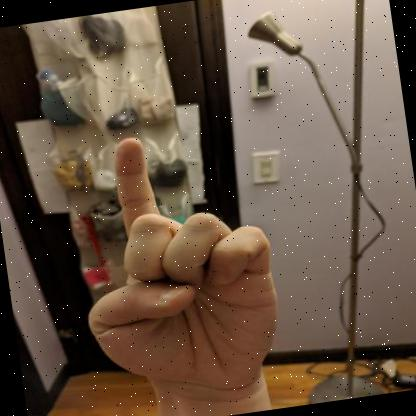D: (88, 137, 277, 401)
